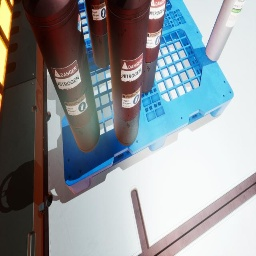0: (205, 0, 246, 61)
NitrogenTank ,: (22, 0, 100, 153), (105, 0, 151, 146), (142, 0, 167, 93), (85, 0, 110, 68)
